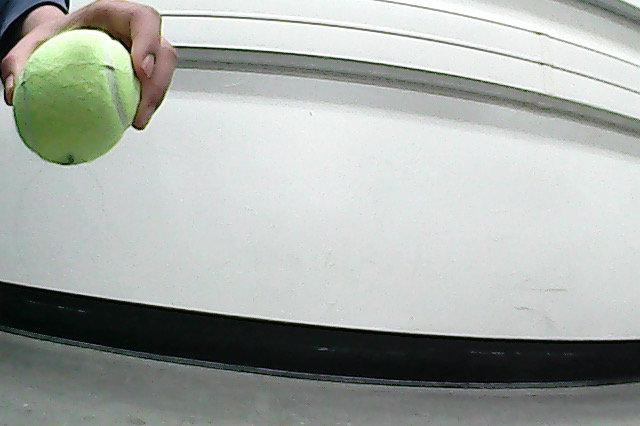ball: (13, 30, 141, 166)
